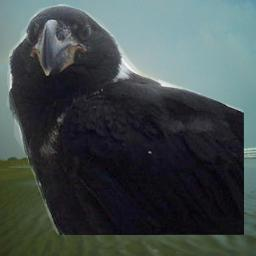Crow: (5, 4, 244, 235)
